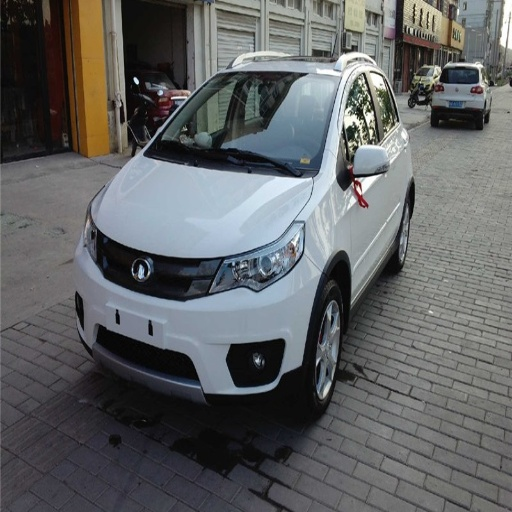front_bumper: (78, 233, 320, 408)
front_glass: (144, 72, 337, 177)
front_left_door: (340, 63, 384, 289)
